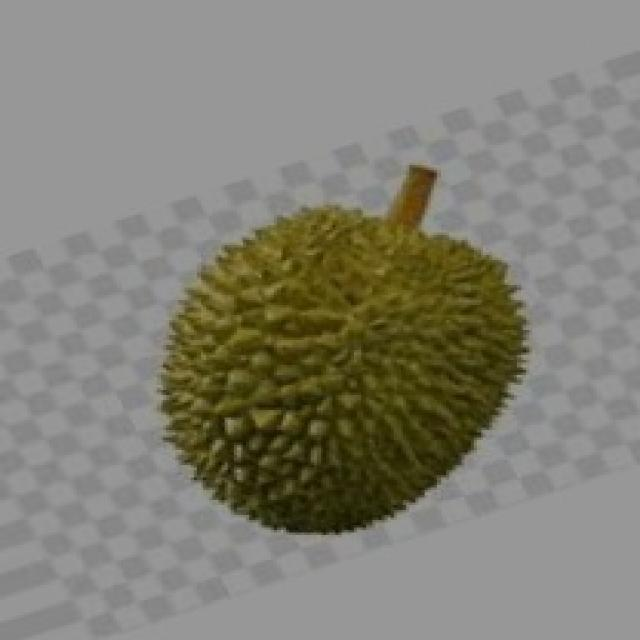fruit: (111, 168, 551, 568)
